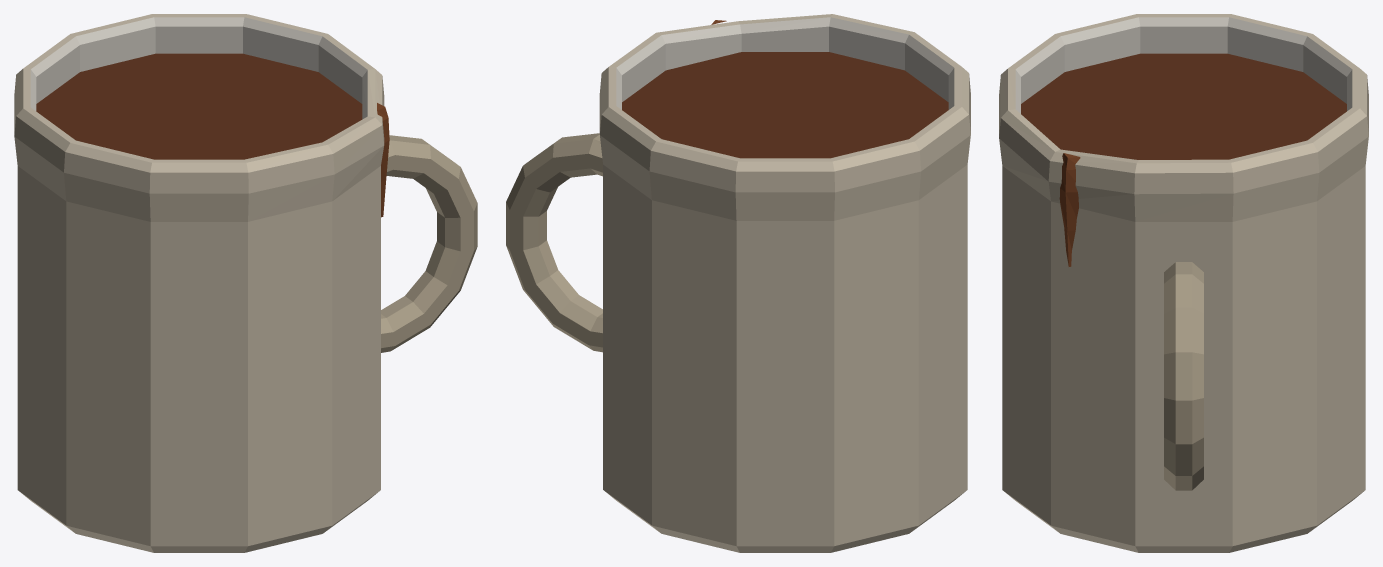
File: office-mug-8afee0.glb
3 renders of one model, left to right at view 1: azimuth 30°, elevation 25°; view 2: azimuth 150°, elevation 25°; view 3: azimuth 270°, elevation 25°, orthographic.
Visible parts, largest first — view 1: mug; view 2: mug; view 3: mug.
Boxes of the visible parts, x1=… form: mug: x1=14, y1=14, x2=477, y2=552; mug: x1=506, y1=14, x2=970, y2=552; mug: x1=999, y1=14, x2=1368, y2=552.
Bounding box in the file's own units: 0.104 × 0.09 × 0.0767.
